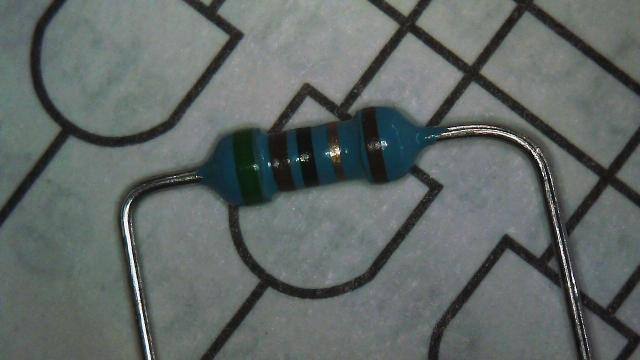black: (295, 128, 319, 187)
brown: (360, 108, 388, 184), (268, 133, 294, 190)
gold: (326, 122, 344, 181)
green: (232, 130, 264, 204)
resistor: (202, 106, 436, 211)
